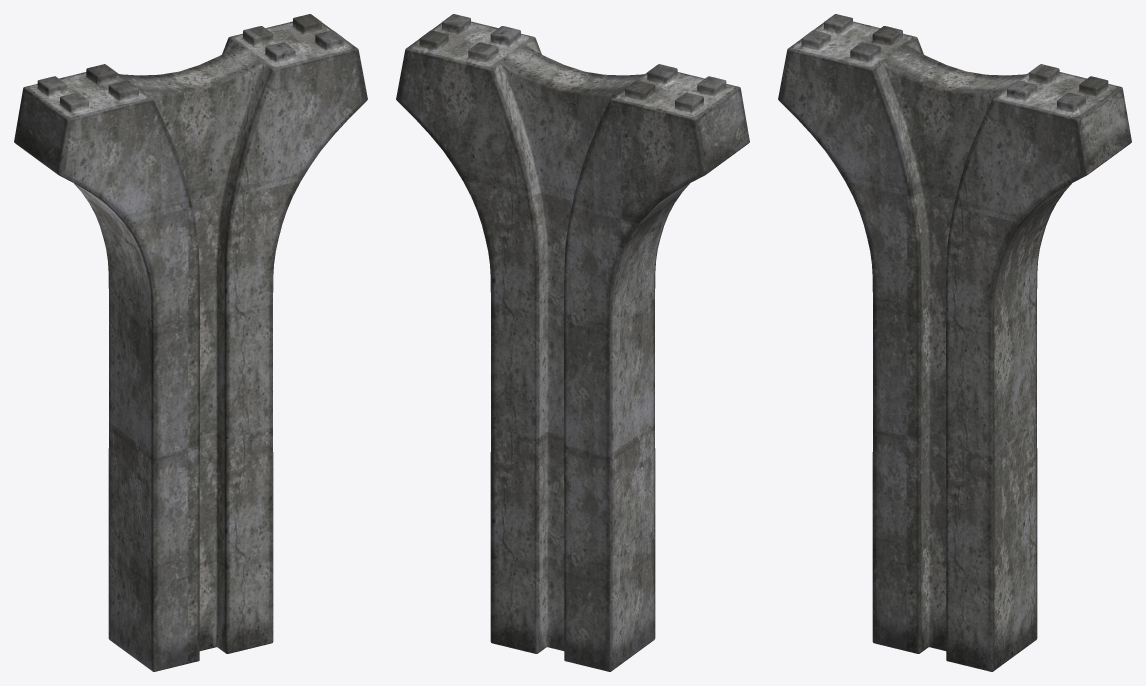
Rendered from landmark.glb.
3 renders of one model, left to right at view 1: azimuth 30°, elevation 25°; view 2: azimuth 150°, elevation 25°; view 3: azimuth 330°, elevation 25°, orthographic.
Parts seen in each view (by area): view 1: Object_2; view 2: Object_2; view 3: Object_2.
Boxes of the visible parts, left/top/right/bottom form: Object_2: left=14, top=14, right=367, bottom=671; Object_2: left=396, top=14, right=749, bottom=671; Object_2: left=778, top=14, right=1131, bottom=671.
Size of the model in its own units: 6.04 by 10.85 by 1.53.
Materials: 1 (1 with a texture image).
